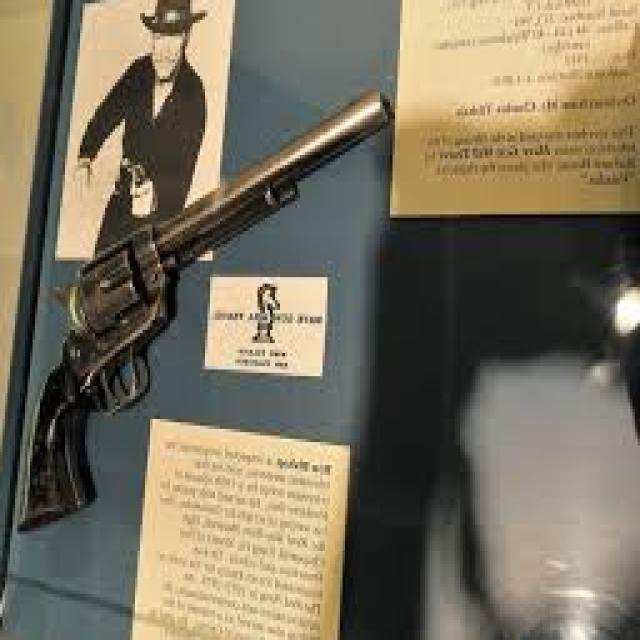gun: (9, 64, 397, 540)
